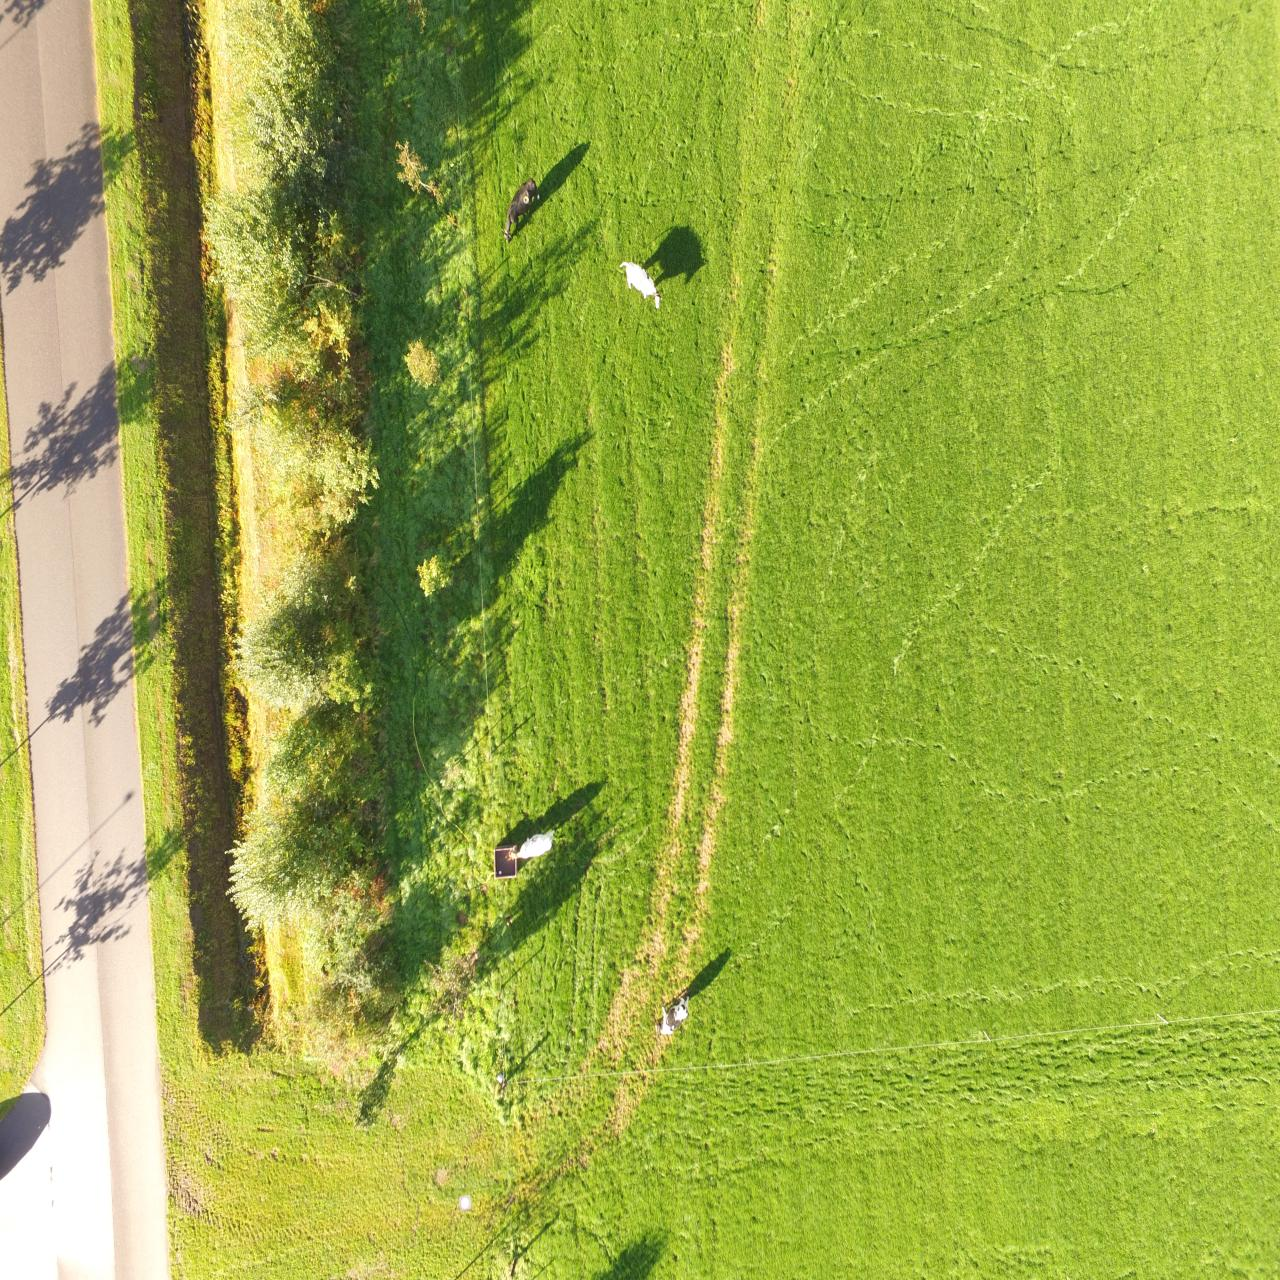cow: (499, 176, 543, 241), (619, 257, 661, 308), (509, 824, 554, 863), (654, 994, 688, 1035)
